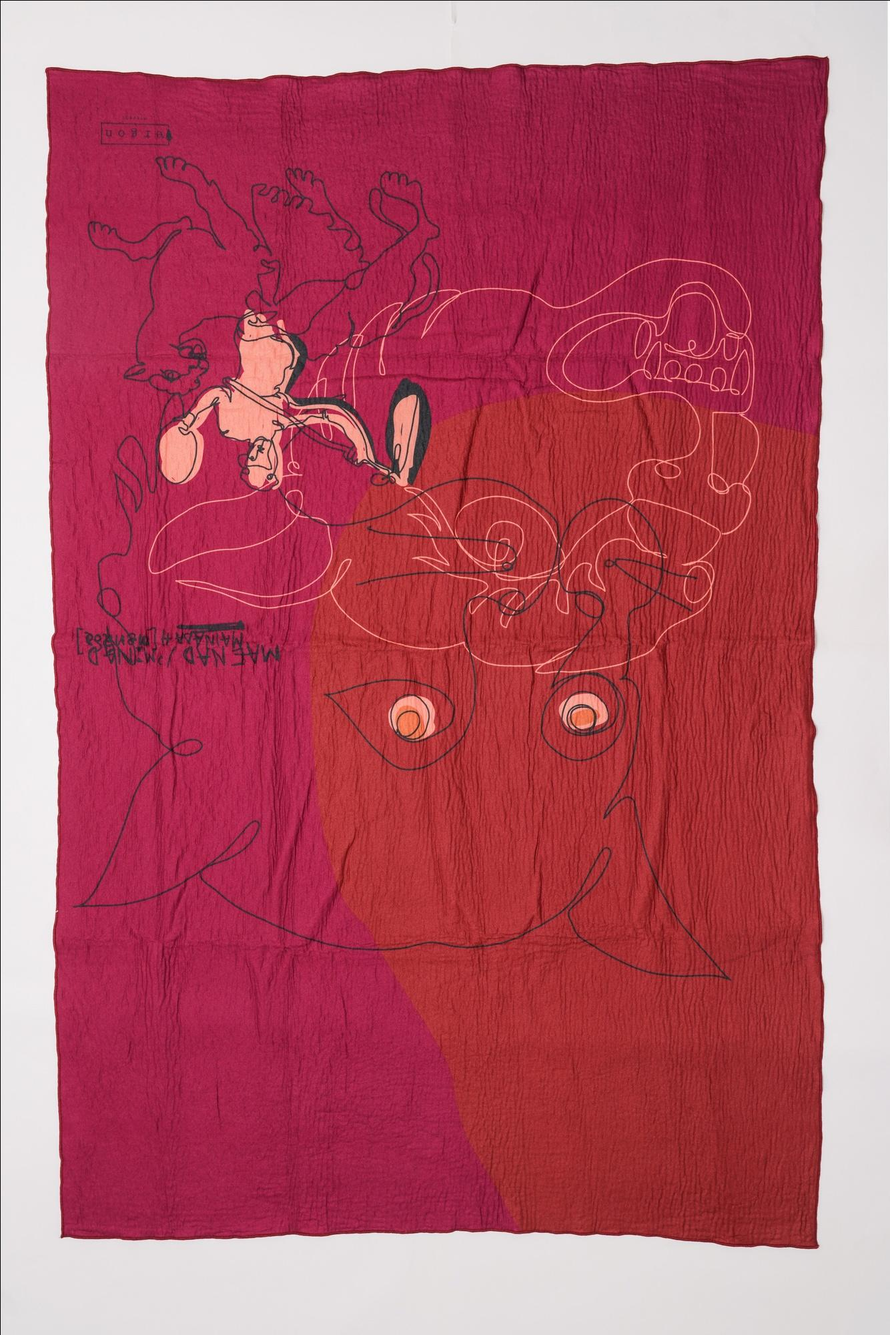Towel: (53, 77, 821, 1252)
